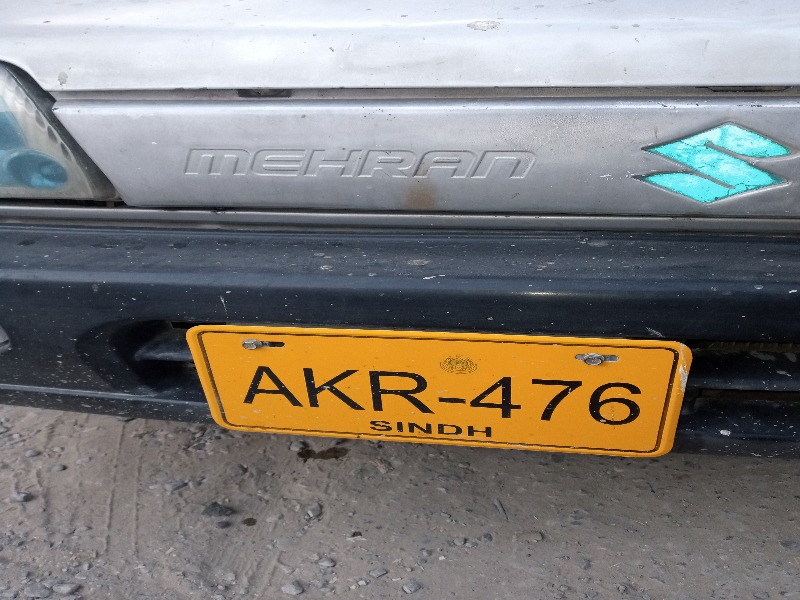License Plate: (185, 321, 690, 471)
